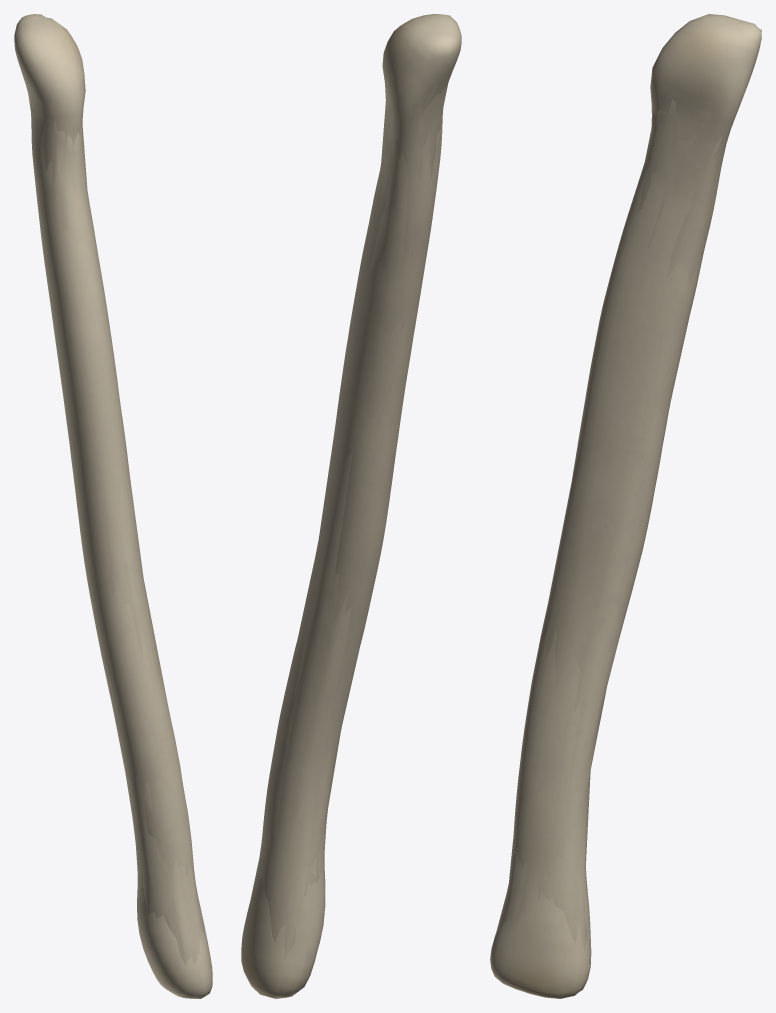
The model's file is L metatarsi secundum.fbx.
The picture shows the model from 3 angles, left to right: view 1: azimuth 30°, elevation 25°; view 2: azimuth 210°, elevation 25°; view 3: azimuth 270°, elevation 25°; orthographic projection. The views are drawn at different scales.
Visible parts, largest first — view 1: L metatarsi secundum high, L metatarsi secundum low; view 2: L metatarsi secundum high, L metatarsi secundum low, L metatarsi secundum; view 3: L metatarsi secundum high, L metatarsi secundum low, L metatarsi secundum.
Boxes of the visible parts, box(x1,y1,x2,y2) form: L metatarsi secundum high: box(14, 14, 212, 998); L metatarsi secundum low: box(28, 95, 204, 965); L metatarsi secundum high: box(241, 14, 461, 998); L metatarsi secundum low: box(250, 47, 447, 960); L metatarsi secundum: box(261, 83, 437, 939); L metatarsi secundum high: box(490, 14, 761, 998); L metatarsi secundum low: box(495, 36, 755, 954); L metatarsi secundum: box(507, 102, 727, 932).
Size of the model in its own units: 2.18 by 17.63 by 4.61.
